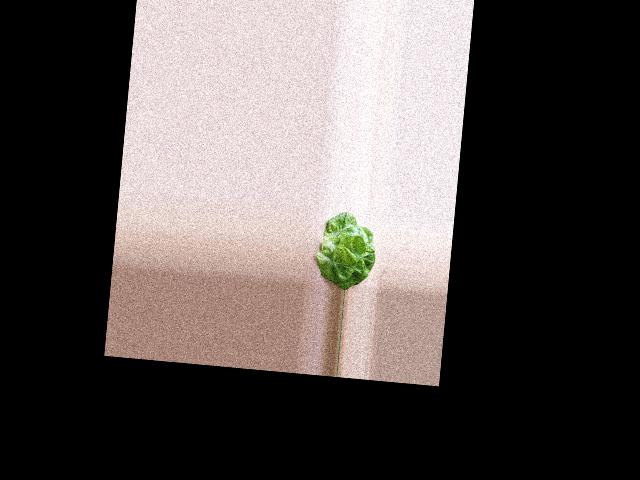lettuce: (315, 212, 379, 290)
